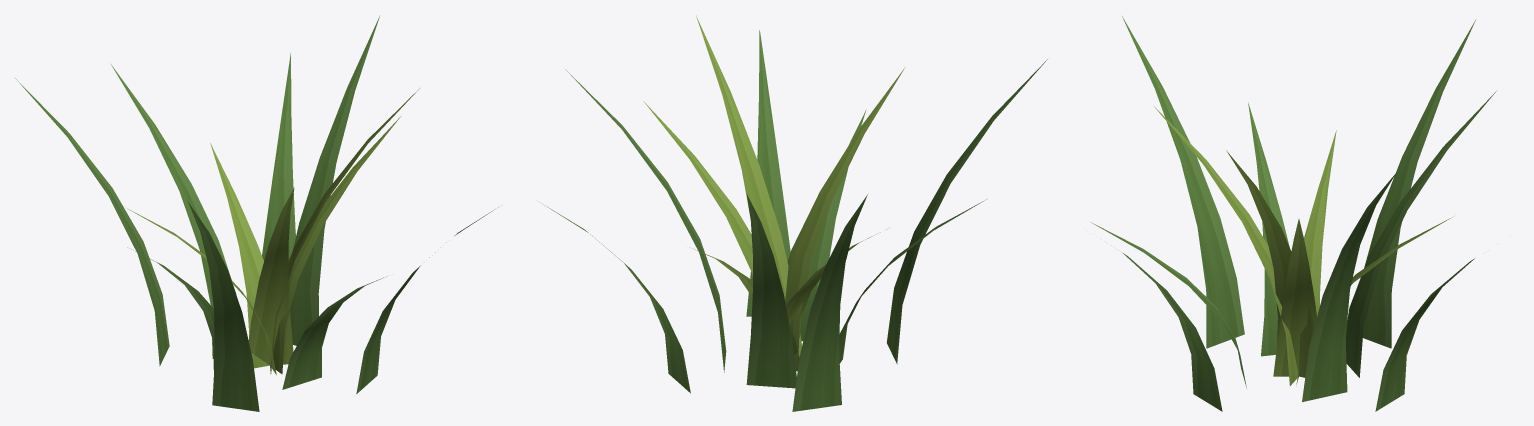
The model's file is SM_Grass.glb.
The picture shows the model from 3 angles, left to right: view 1: azimuth 30°, elevation 25°; view 2: azimuth 150°, elevation 25°; view 3: azimuth 270°, elevation 25°; orthographic projection. The views are drawn at different scales.
Visible parts, largest first — view 1: SM_Grass; view 2: SM_Grass; view 3: SM_Grass.
Boxes of the visible parts, x1,y1,x2,y2 form: SM_Grass: [15, 16, 498, 411]; SM_Grass: [540, 15, 1047, 411]; SM_Grass: [1091, 16, 1496, 411].
Size of the model in its own units: 0.5012 by 0.4 by 0.5596.
1 material, 1 textured.
